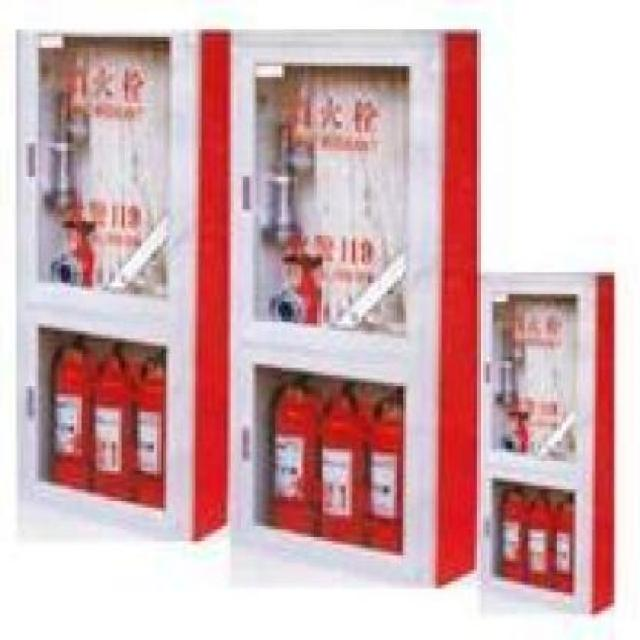firehydrant: (229, 21, 480, 597), (9, 16, 232, 550), (477, 264, 620, 618)
